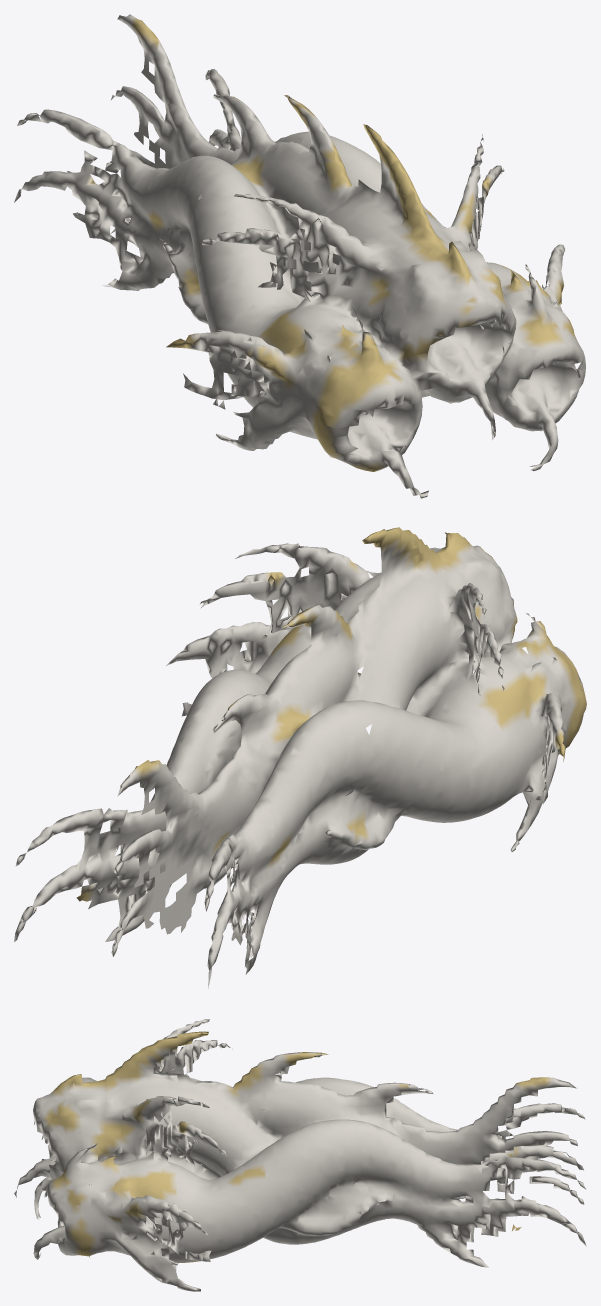
Rendered from mon3d_lo.glb.
The picture shows the model from 3 angles, top to bottom: view 1: azimuth 30°, elevation 25°; view 2: azimuth 150°, elevation 25°; view 3: azimuth 270°, elevation 25°; orthographic projection. The views are drawn at different scales.
Size of the model in its own units: 1.17 by 0.7953 by 1.96.
